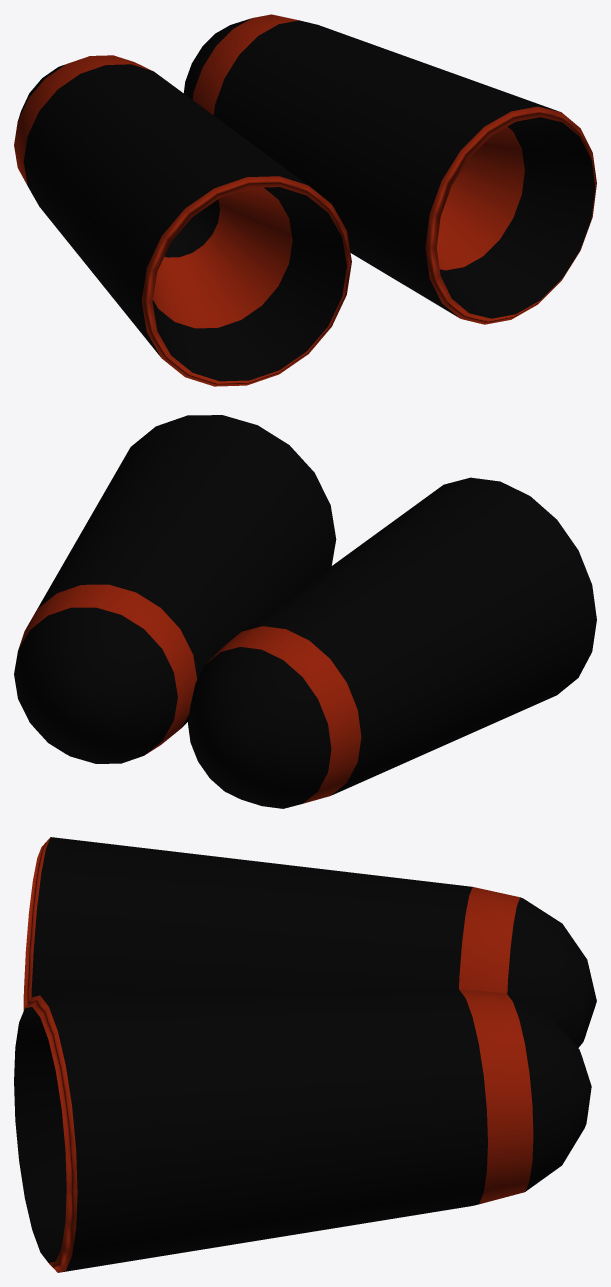
Rendered from Horde Engine 3.fbx.
3 renders of one model, top to bottom at view 1: azimuth 30°, elevation 25°; view 2: azimuth 150°, elevation 25°; view 3: azimuth 270°, elevation 25°, orthographic. The views are drawn at different scales.
Visible parts, largest first — view 1: pCylinder23; view 2: pCylinder23; view 3: pCylinder23.
Boxes of the visible parts, <box> form: pCylinder23: <box>14,14,596,386</box>; pCylinder23: <box>14,415,596,808</box>; pCylinder23: <box>14,837,596,1272</box>.
Size of the model in its own units: 9.3 by 4.01 by 8.33.
